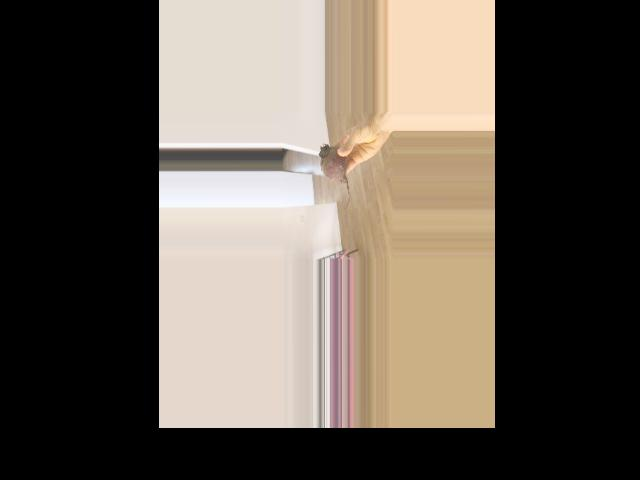beet: (319, 144, 349, 209)
